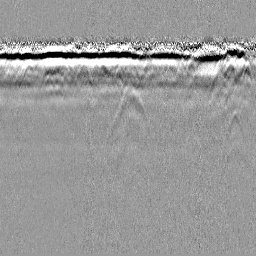cavity: (111, 83, 148, 126)
